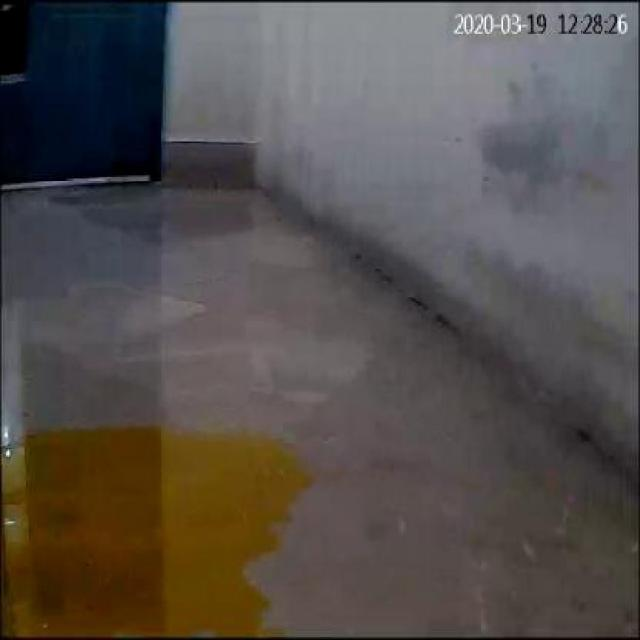spill: (6, 422, 306, 633)
